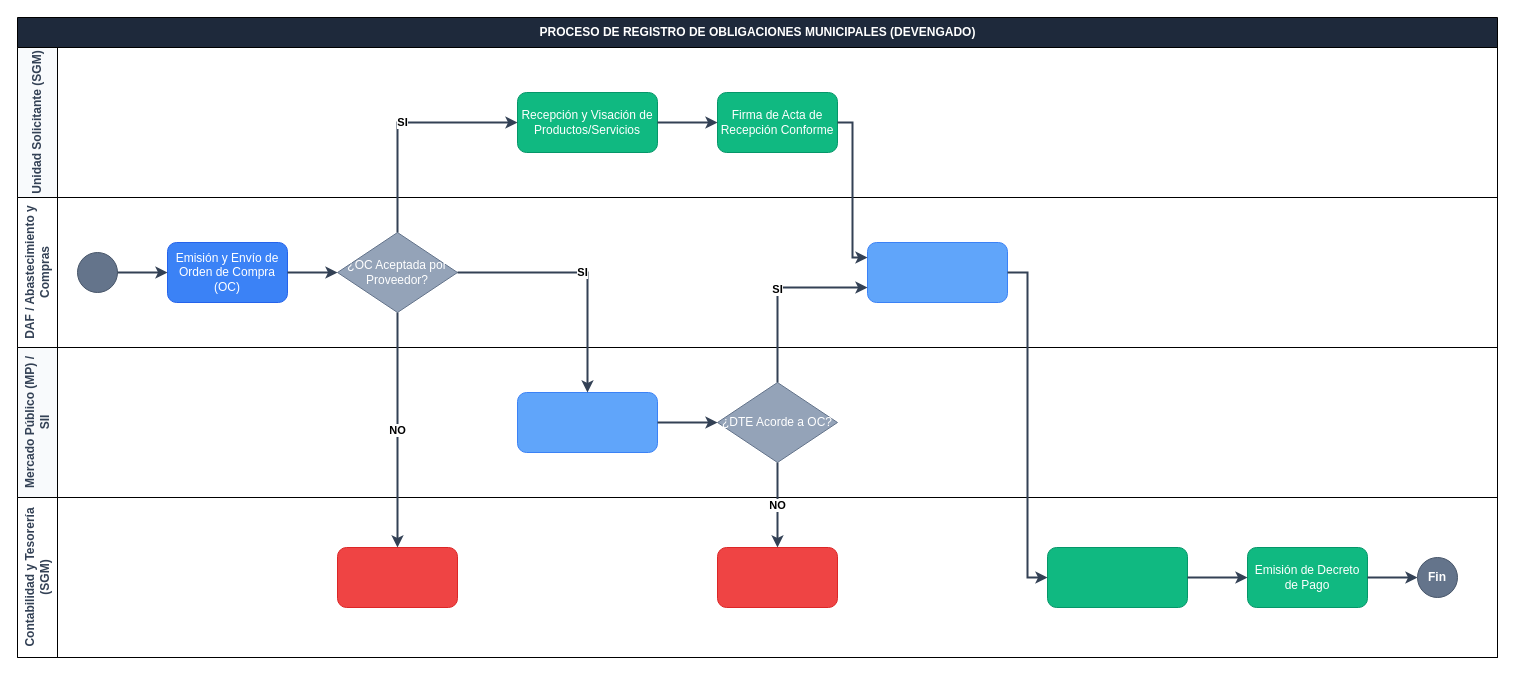
Image size: 1515x675. Some labels were removed from this diagram. The centre of each missing label's shape, as x and y in pixels:
"Generar Rechazo de DTE" goes at pixel 777 577.
"Inicio" goes at pixel 97 272.
"Integración de Expediente (OC + DTE + CRC + Acta)" goes at pixel 937 272.
"Notificar a Unidad Solicitante / Re-evaluar" goes at pixel 397 577.
"Registro Contable del Devengado (Obligación)" goes at pixel 1117 577.
"Validación de DTE y Emisión CRC (Mercado Público)" goes at pixel 587 422.
